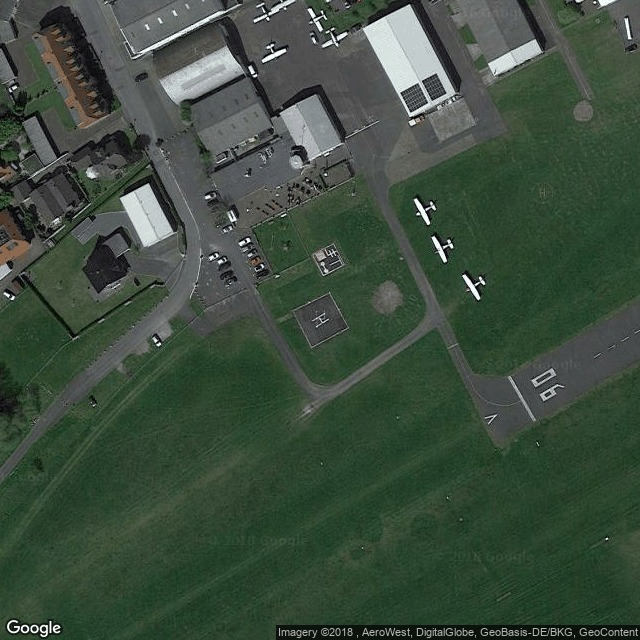heliport: (307, 309, 330, 330)
